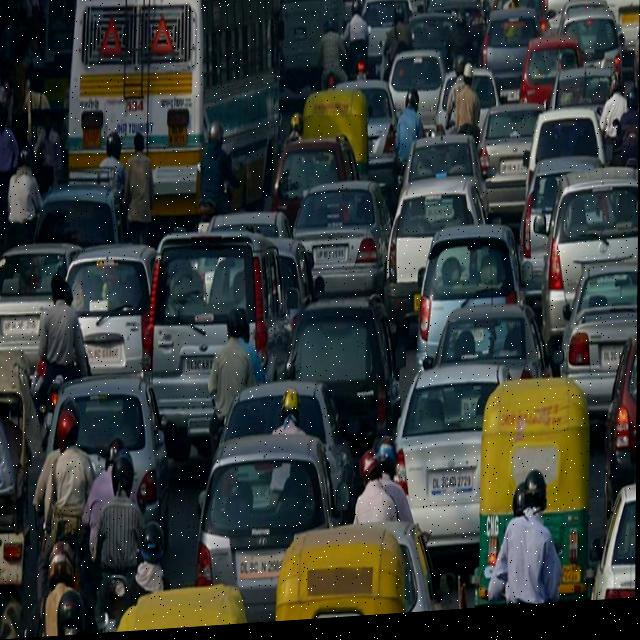plate: (425, 477, 477, 504), (238, 556, 286, 584)
